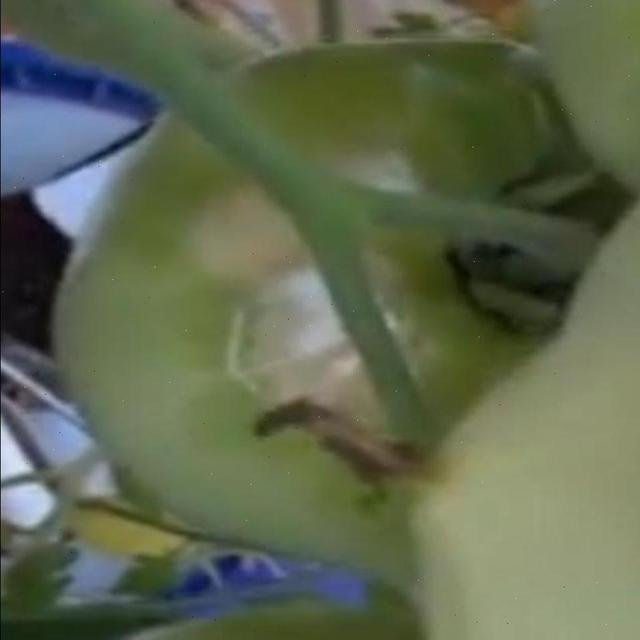Sunscald Fruit: (119, 99, 280, 312)
